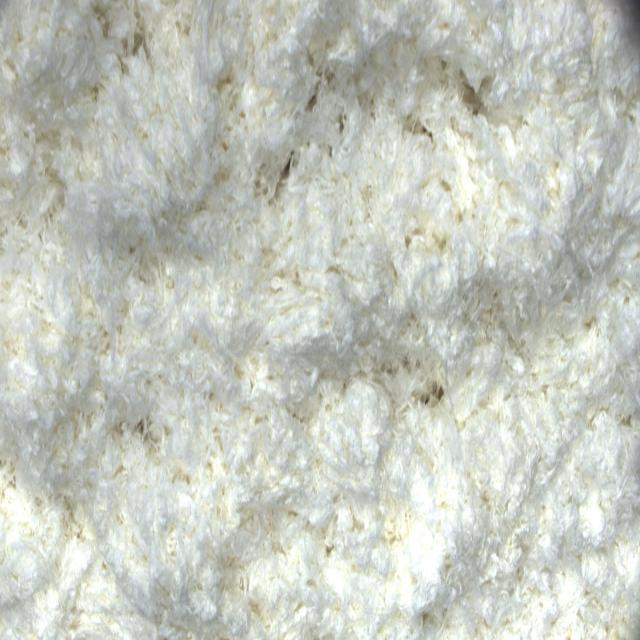dust: (459, 65, 491, 117), (416, 370, 447, 420)
